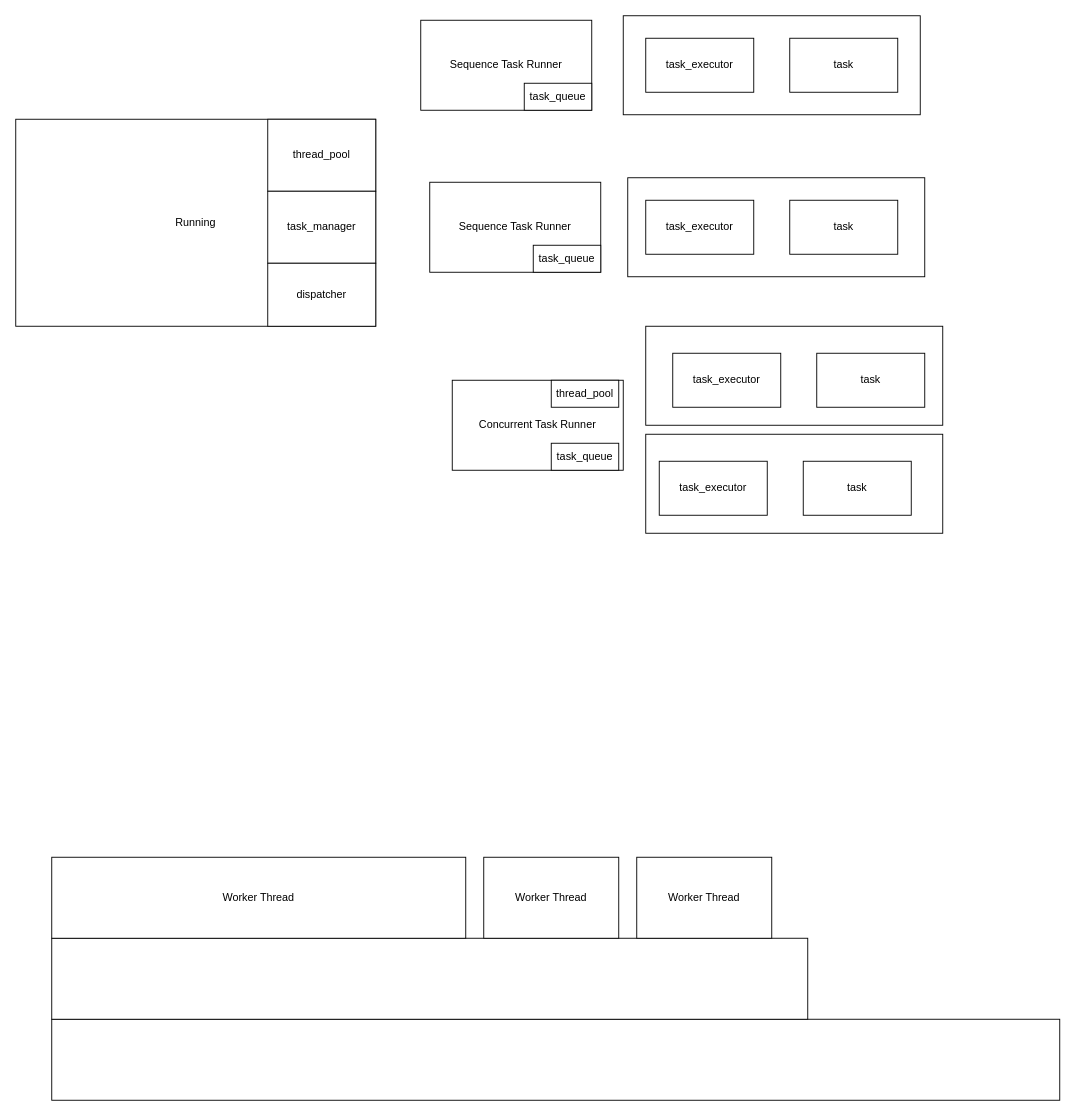
Some shapes in this 1076 by 1116 pixel diagram are drawn without their labels. The shapes that lost their labels are listed below. From the top down, each one's centre as x and y in pixels, then its label:
At (x=429, y=978): "Thread Pool".
At (x=555, y=1059): "RunLoop".
